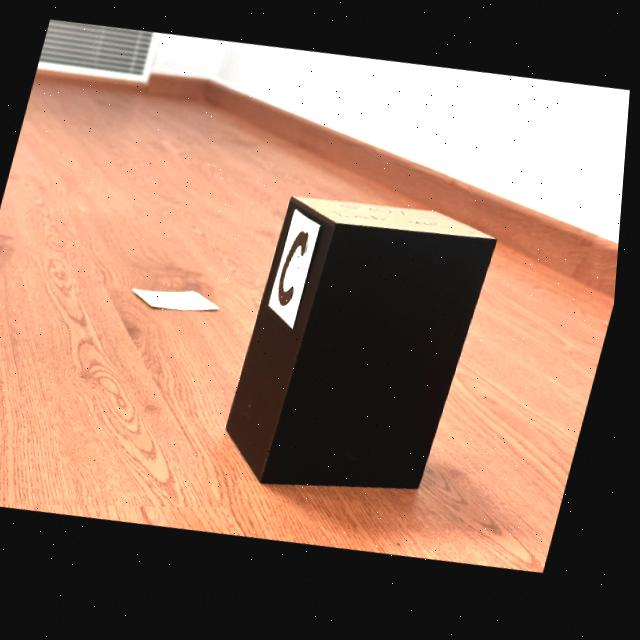C: (283, 237, 313, 311)
